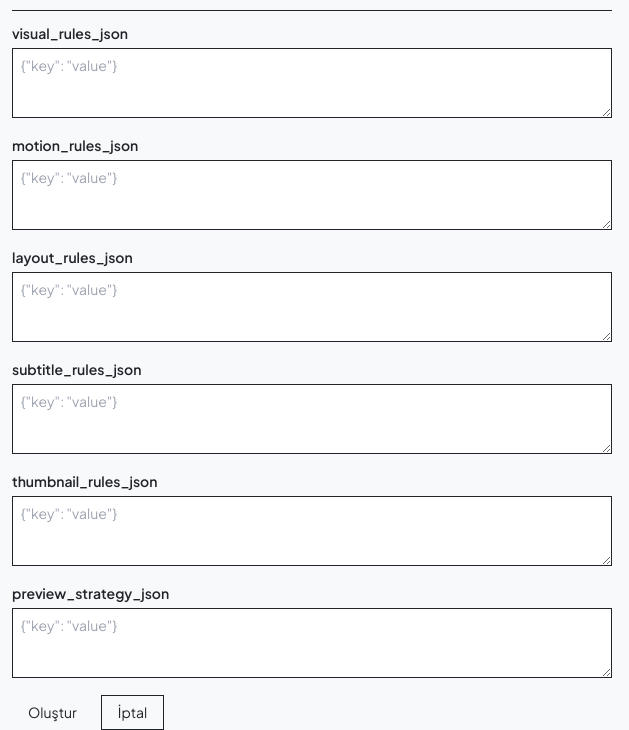
Test: StyleBlueprint form smoke tests › shows name required error on empty submit
(page scrolled)
Click the button "Oluştur": click(52, 712) [12,695,93,729]
(page scrolled)
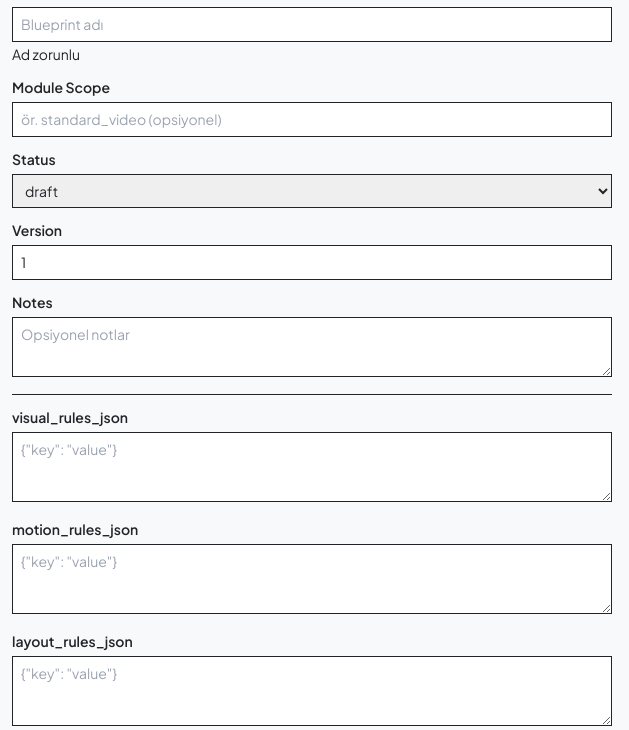
Check: the text "Ad zorunlu" is shown, box [12,45,80,63]
